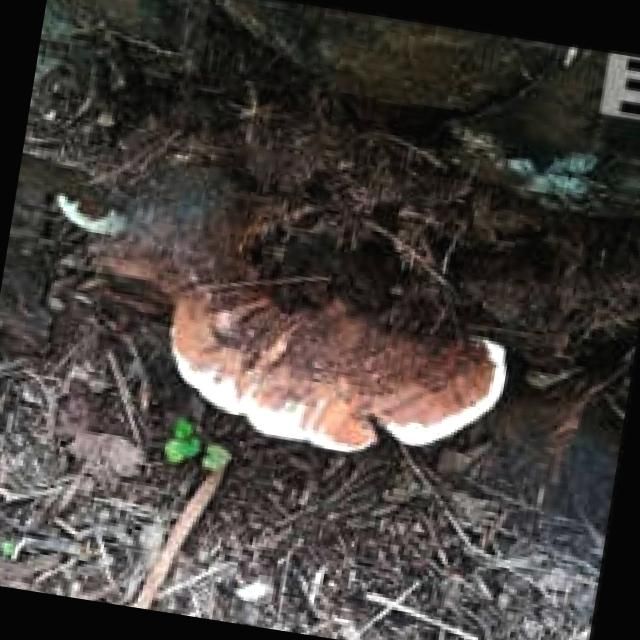ganoderma: (152, 278, 516, 480)
